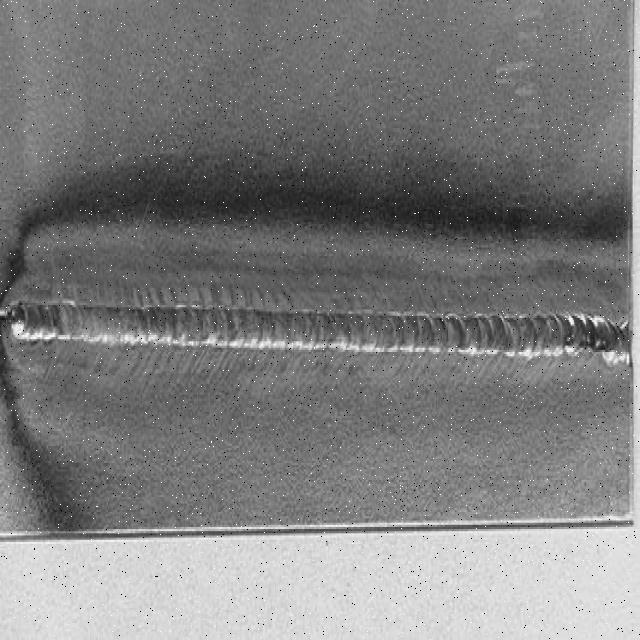Good Welding: (0, 300, 630, 363)
